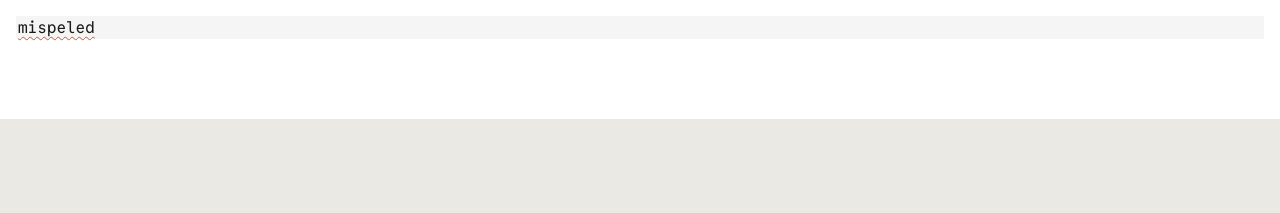
Test case: Editor and Scratchpad spelling › keeps underlines and keyboard corrections while native spellcheck stays off
expect the text box with class "cm-misspelled" reads "mispeled": met, box 18,19 -> 95,36
Step 1. Press F10 in the field with class "cm-content", box 16,16 -> 1264,39
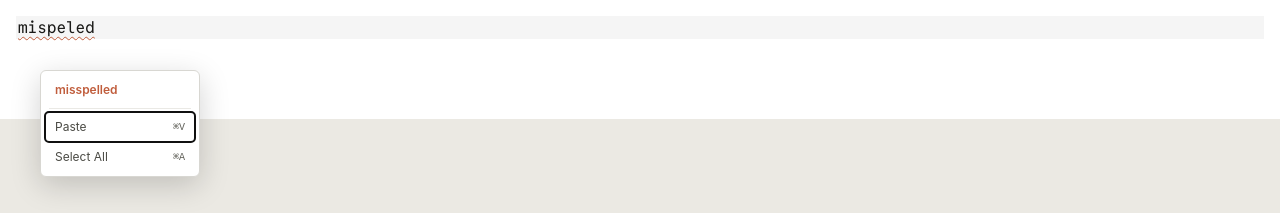
expect the menu item with class "spell-item" reads "misspelled": met
Step 2. Click the menu item with class "spell-item" → point(120, 90), box 45,75 -> 195,105
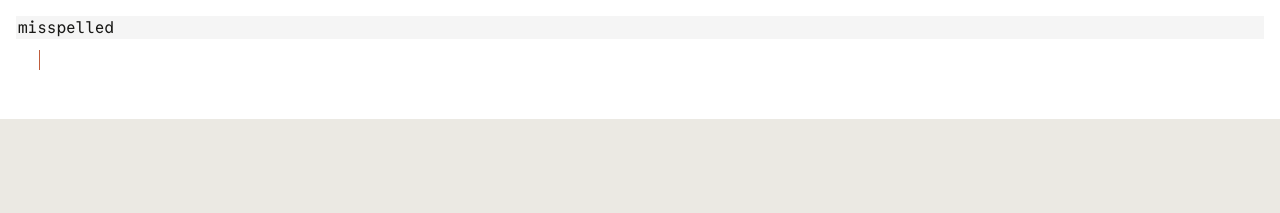
expect the text box labelled "misspelled" is shown: met, box 16,16 -> 1264,39
